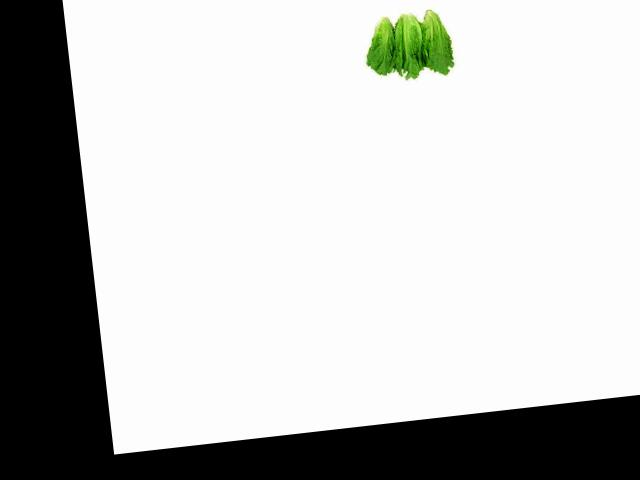lettuce: (359, 1, 403, 79)
